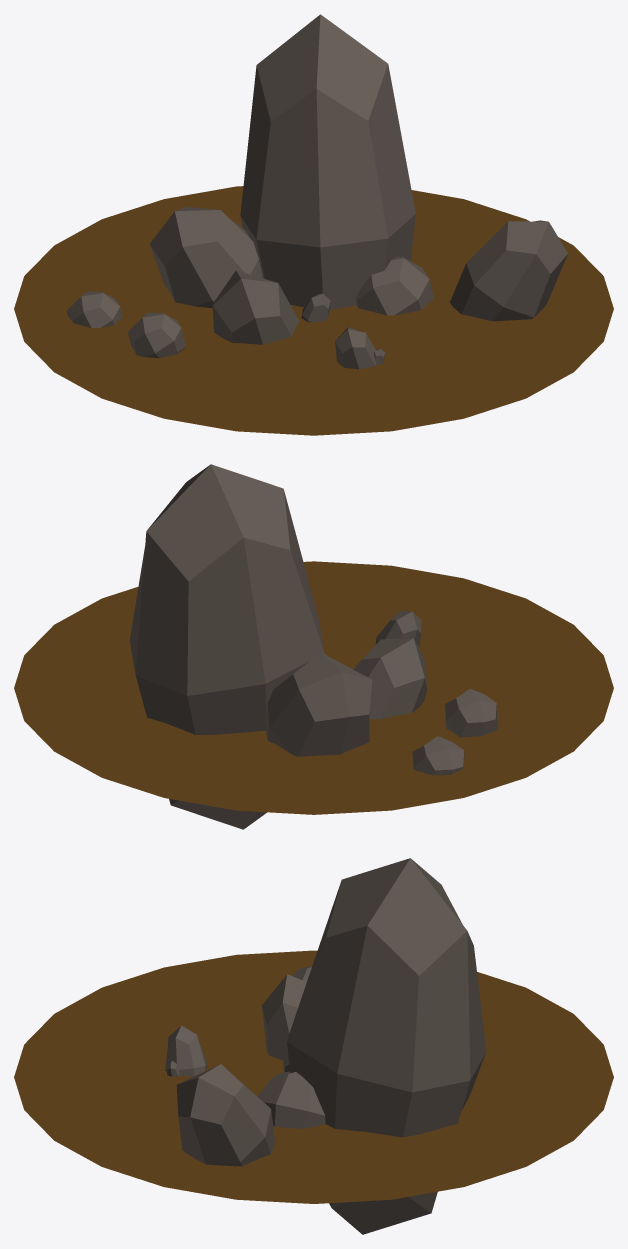
The model's file is Spike4.fbx.
3 views of the same model, one above another, from view 1: azimuth 30°, elevation 25°; view 2: azimuth 150°, elevation 25°; view 3: azimuth 270°, elevation 25° (orthographic).
Parts seen in each view (by area): view 1: pDisc3, pCube30, pCube35, pCube29, pCube33, pCube34, pCube32, pCube31, pCube37, pCube28; view 2: pDisc3, pCube30, pCube29, pCube33, pCube32, pCube31, pCube37; view 3: pDisc3, pCube30, pCube35, pCube34, pCube33, pCube37.
Part boxes in pixels (bbox=[...]): pDisc3: bbox=[14, 186, 613, 435]; pCube30: bbox=[240, 14, 415, 310]; pCube35: bbox=[450, 220, 567, 321]; pCube29: bbox=[150, 207, 262, 308]; pCube33: bbox=[212, 270, 299, 344]; pCube34: bbox=[355, 256, 433, 315]; pCube32: bbox=[128, 312, 185, 358]; pCube31: bbox=[66, 291, 122, 327]; pCube37: bbox=[335, 327, 376, 369]; pCube28: bbox=[301, 293, 330, 322]; pDisc3: bbox=[14, 561, 613, 814]; pCube30: bbox=[129, 464, 324, 829]; pCube29: bbox=[266, 652, 372, 756]; pCube33: bbox=[353, 638, 427, 719]; pCube32: bbox=[445, 688, 497, 737]; pCube31: bbox=[412, 736, 464, 775]; pCube37: bbox=[375, 610, 421, 647]; pDisc3: bbox=[14, 950, 613, 1203]; pCube30: bbox=[287, 858, 486, 1234]; pCube35: bbox=[176, 1064, 274, 1166]; pCube34: bbox=[257, 1071, 325, 1128]; pCube33: bbox=[261, 974, 306, 1060]; pCube37: bbox=[165, 1025, 207, 1076].
Size of the model in its own units: 2 by 1.4 by 2.
